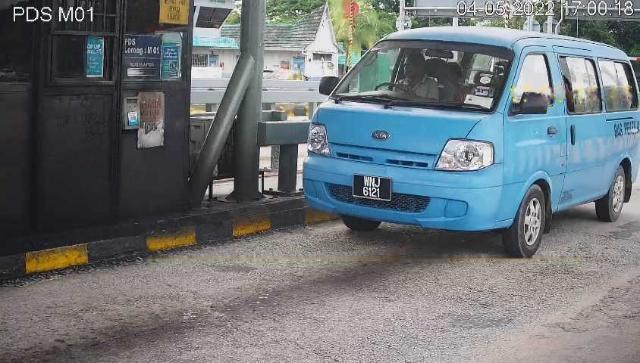License_Plate: (353, 175, 393, 204)
van: (303, 27, 640, 259)
